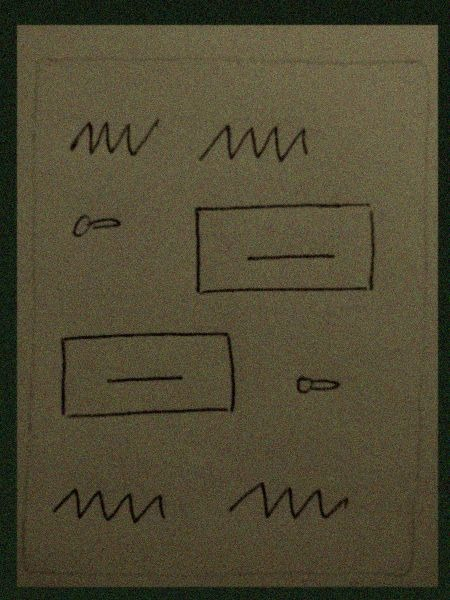button: (187, 196, 383, 303), (53, 327, 241, 423)
switch: (63, 203, 135, 246), (283, 364, 346, 403)
text: (219, 472, 360, 529), (192, 112, 314, 172), (48, 476, 172, 532), (63, 113, 166, 164)
